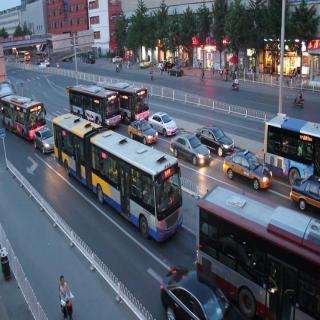BigCar: (52, 111, 189, 251), (194, 177, 320, 320), (264, 109, 320, 186), (0, 91, 47, 147), (69, 84, 120, 135), (105, 79, 148, 130)
Car: (163, 266, 221, 320), (225, 147, 280, 200), (192, 119, 238, 161), (173, 130, 215, 175), (293, 173, 320, 218), (130, 119, 160, 148), (154, 109, 178, 140), (34, 130, 56, 159)
